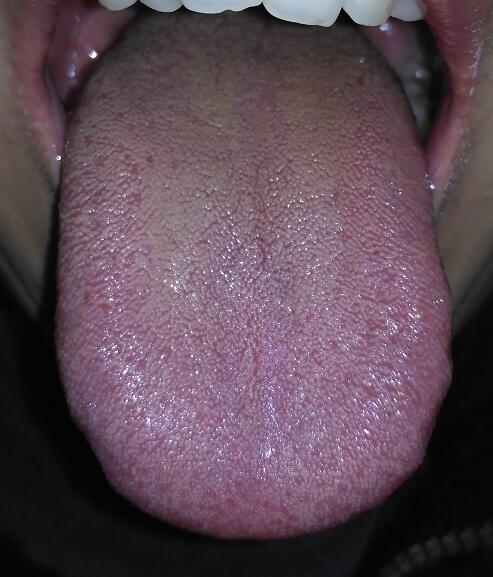chihenshe: (417, 302, 454, 465)
zishe: (59, 12, 454, 536)
